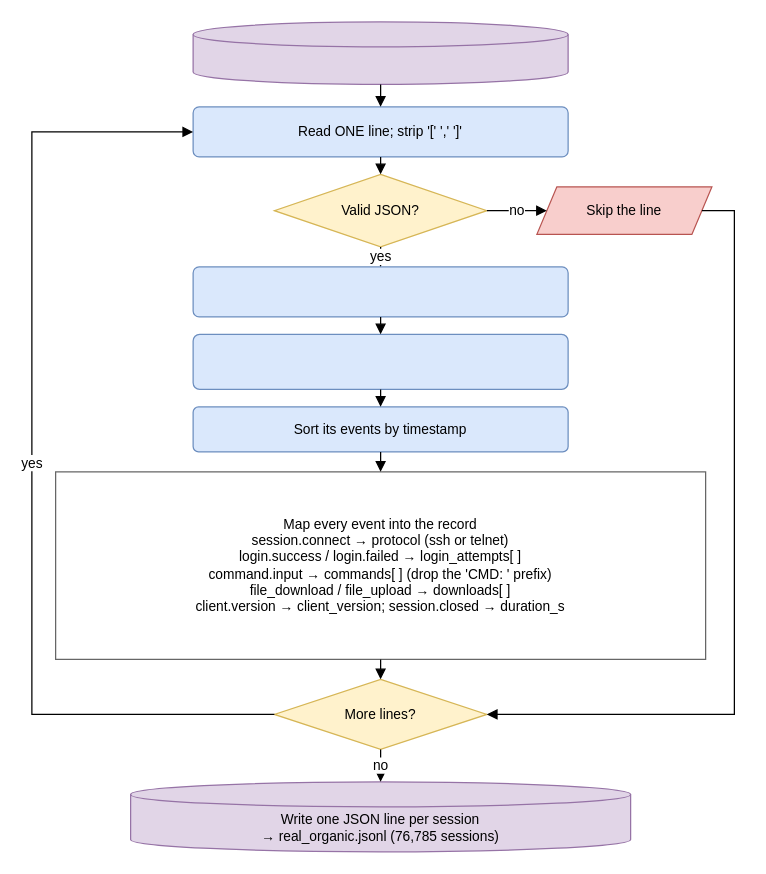
This 766x874 diagram has some shape labels left out. Each missing label, with the centre of its shape:
cowrie_2019-11-15.json (one JSON array, about 600 MB): the point at 380,52
For each {session_id: [events]}: the point at 380,291
Get or create the session record (one session can repeat): the point at 380,361
